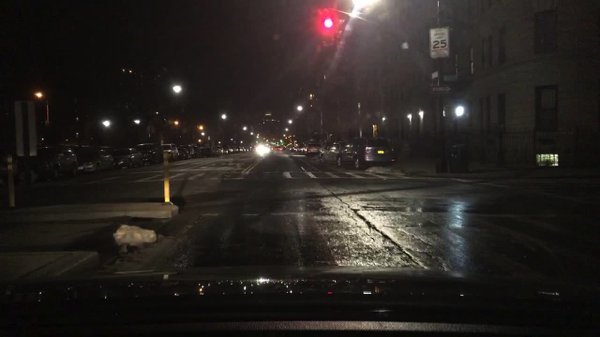car: (13, 143, 79, 185), (336, 138, 398, 169), (74, 147, 116, 174), (110, 147, 145, 169), (319, 141, 346, 166), (133, 143, 161, 163), (161, 143, 180, 160), (305, 142, 322, 155), (176, 148, 191, 160), (184, 145, 198, 157), (256, 144, 270, 155), (194, 144, 202, 158), (200, 147, 211, 157), (222, 145, 233, 154), (213, 146, 223, 155), (272, 145, 283, 152), (232, 146, 239, 154), (293, 146, 299, 153), (286, 146, 294, 151), (299, 146, 304, 153), (242, 147, 247, 153), (238, 146, 242, 153), (247, 147, 251, 152)
traffic light: (322, 13, 336, 46), (336, 16, 345, 46)
traffic sign: (428, 27, 450, 59), (431, 85, 451, 93), (442, 75, 459, 82), (429, 72, 438, 80)
